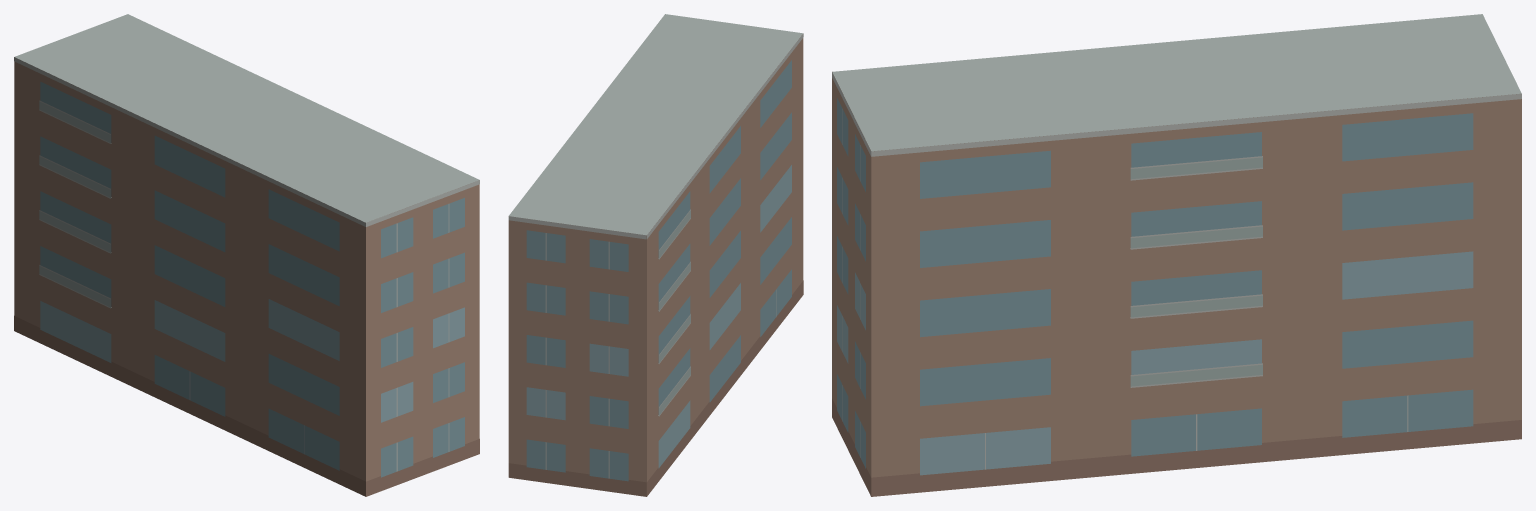
Rendered from survey-upis-32827667.glb.
The picture shows the model from 3 angles, left to right: view 1: azimuth 30°, elevation 25°; view 2: azimuth 150°, elevation 25°; view 3: azimuth 270°, elevation 25°; orthographic projection. The views are drawn at different scales.
Visible parts, largest first — view 1: survey-upis-32827667.tmp; view 2: survey-upis-32827667.tmp; view 3: survey-upis-32827667.tmp.
Boxes of the visible parts, x1,y1,x2,y2 form: survey-upis-32827667.tmp: (14,14,479,496); survey-upis-32827667.tmp: (508,14,803,496); survey-upis-32827667.tmp: (832,14,1521,496).
Bounding box in the file's own units: 13.14 × 15.4 × 27.87.
